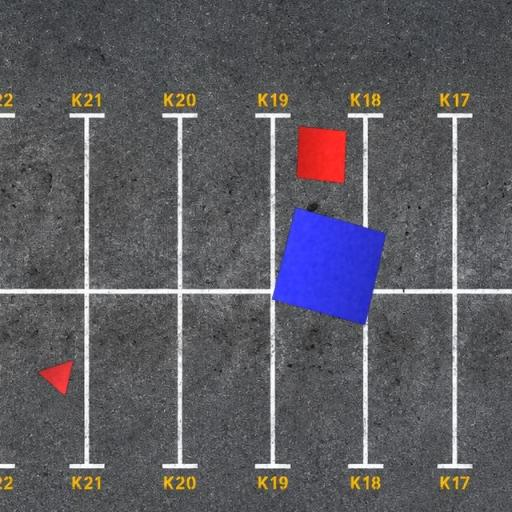BLUE_SQUARE: (271, 207, 387, 326)
RED_SQUARE: (296, 126, 347, 184)
